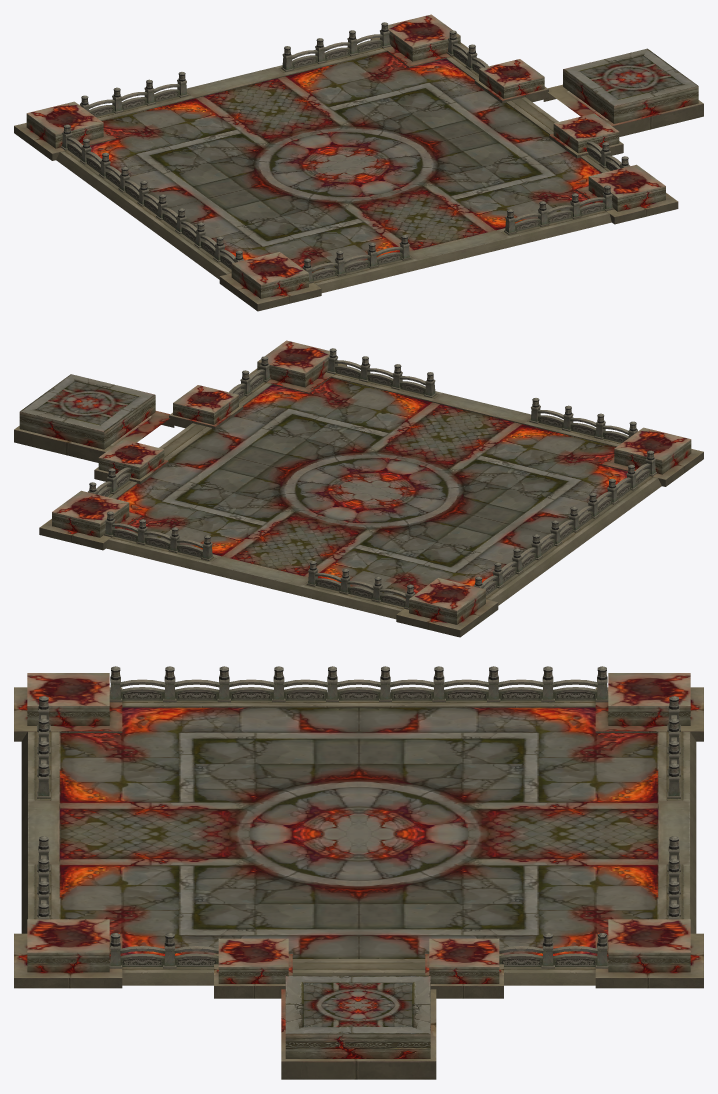
Rendered from jintf_wujian_01.FBX.
The picture shows the model from 3 angles, top to bottom: view 1: azimuth 30°, elevation 25°; view 2: azimuth 150°, elevation 25°; view 3: azimuth 270°, elevation 25°; orthographic projection. The views are drawn at different scales.
Parts seen in each view (by area): view 1: jintf_wujian_01a, jintf_wujian_02b; view 2: jintf_wujian_01a, jintf_wujian_02b; view 3: jintf_wujian_01a, jintf_wujian_02b.
Boxes of the visible parts, x1,y1,x2,y2 form: jintf_wujian_01a: (14,14,703,311); jintf_wujian_02b: (61,25,629,283); jintf_wujian_01a: (14,340,703,637); jintf_wujian_02b: (88,351,656,609); jintf_wujian_01a: (14,666,703,1079); jintf_wujian_02b: (37,671,680,968).
Size of the model in its own units: 2756 by 178 by 2152.
